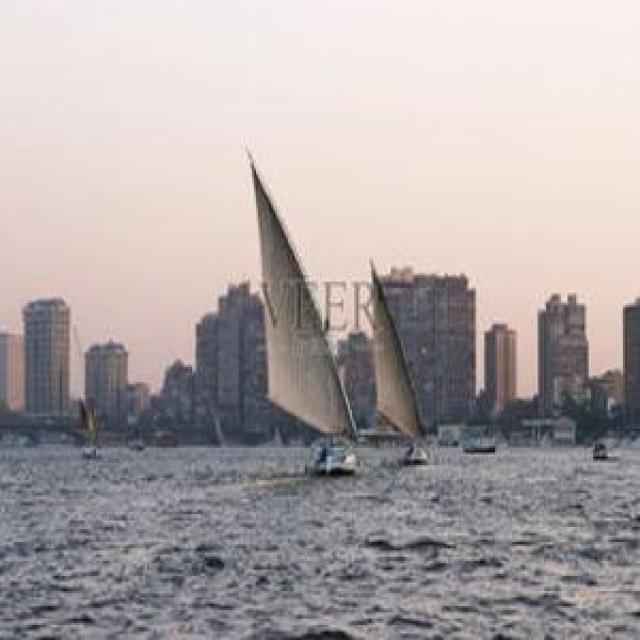sailboat: (240, 146, 362, 476), (358, 258, 430, 465), (72, 393, 108, 460)
